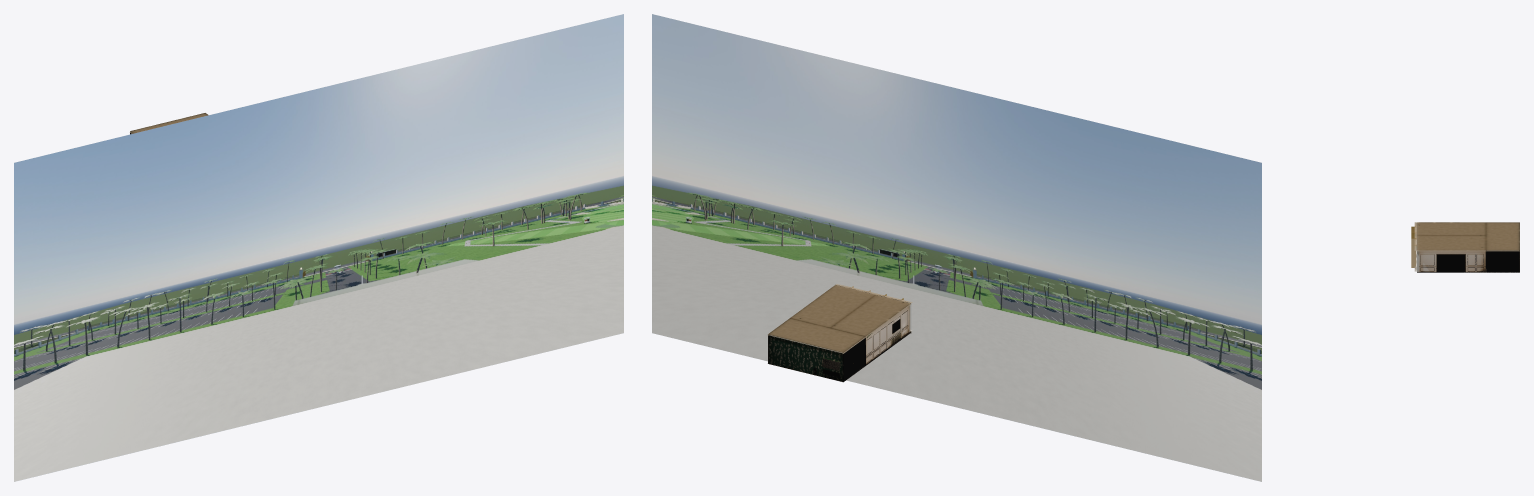
The model's file is int_eko_r7.glb.
3 renders of one model, left to right at view 1: azimuth 30°, elevation 25°; view 2: azimuth 150°, elevation 25°; view 3: azimuth 270°, elevation 25°, orthographic. The views are drawn at different scales.
Visible parts, largest first — view 1: VIEW_front; view 2: VIEW_front, ROOM; view 3: ROOM.
Part boxes in pixels (left/top/right/bottom): VIEW_front: left=14, top=14, right=623, bottom=481; VIEW_front: left=652, top=14, right=1261, bottom=481; ROOM: left=768, top=284, right=912, bottom=382; ROOM: left=1411, top=222, right=1519, bottom=272.
Bounding box in the file's own units: 72 × 36 × 30.97.
Materials: 3 (2 with a texture image).
